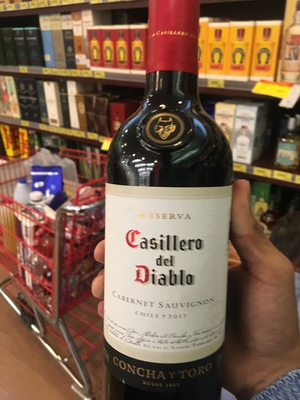casillero del diablo cabernet sauvignon: (102, 9, 234, 400)
